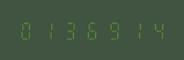four: (143, 20, 163, 40)
nine: (101, 20, 121, 40)
one: (38, 20, 58, 40), (122, 20, 142, 40)
six: (80, 20, 100, 40)
three: (59, 20, 79, 40)
zero: (17, 20, 37, 40)
